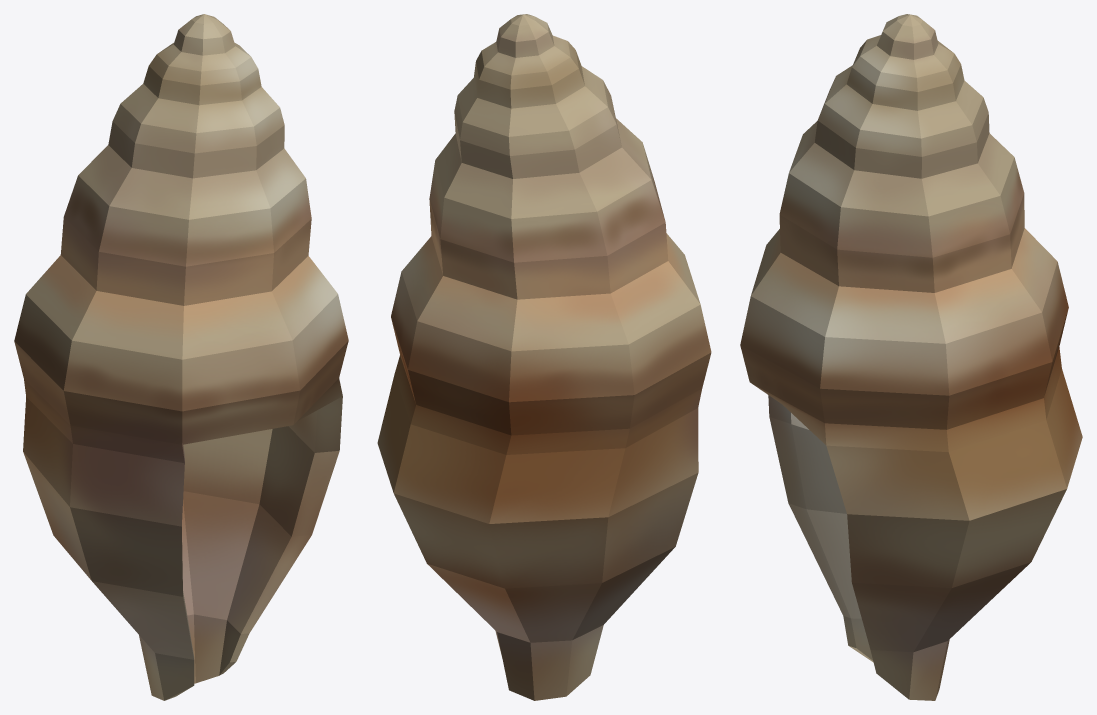
Rendered from conch shell.fbx.
The picture shows the model from 3 angles, left to right: view 1: azimuth 30°, elevation 25°; view 2: azimuth 150°, elevation 25°; view 3: azimuth 270°, elevation 25°; orthographic projection. The views are drawn at different scales.
Visible parts, largest first — view 1: seaShell2.001; view 2: seaShell2.001; view 3: seaShell2.001.
Boxes of the visible parts, <box> form: seaShell2.001: <box>14,14,348,700</box>; seaShell2.001: <box>377,14,711,700</box>; seaShell2.001: <box>740,14,1082,700</box>.
Bounding box in the file's own units: 188 × 429 × 194.
1 material, 1 textured.
